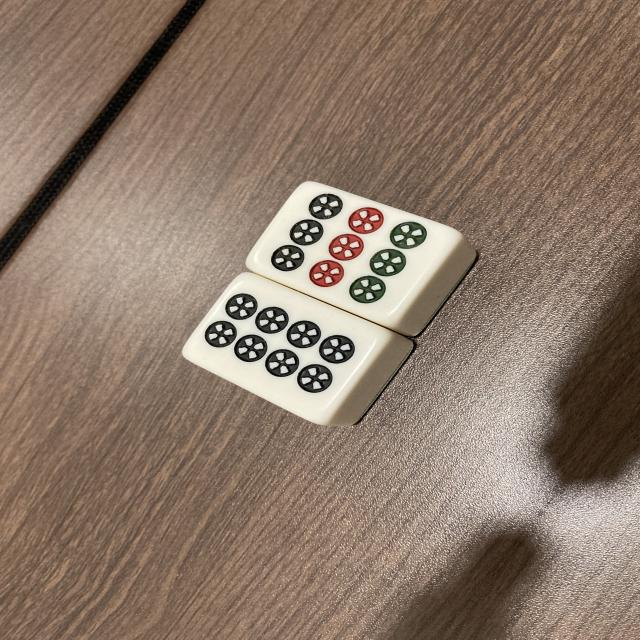t8: (182, 269, 388, 430)
t9: (251, 186, 458, 330)
